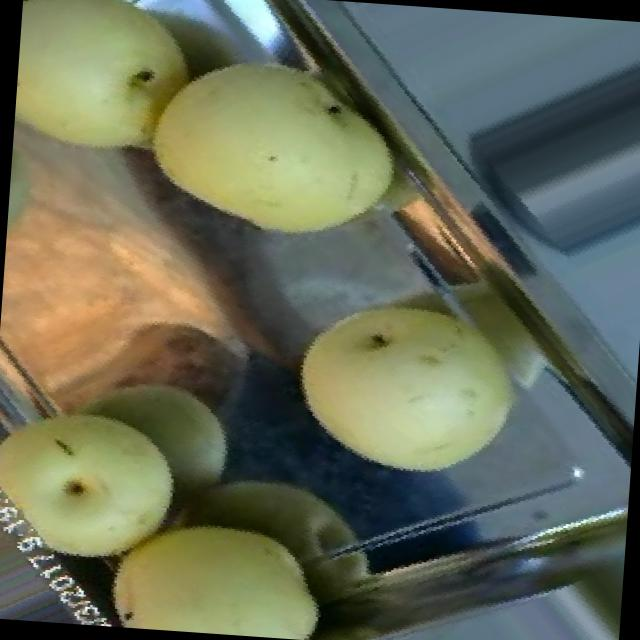Fruit: (0, 94, 314, 454), (113, 14, 427, 274), (266, 253, 548, 505), (67, 477, 357, 640), (0, 379, 207, 597), (8, 0, 215, 201)
